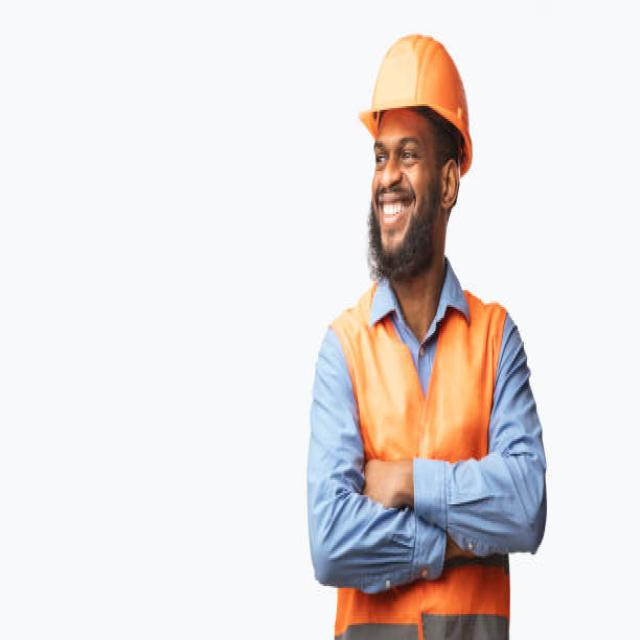Hard Hat: (355, 24, 482, 172)
Reflective Vest: (308, 273, 532, 630)
